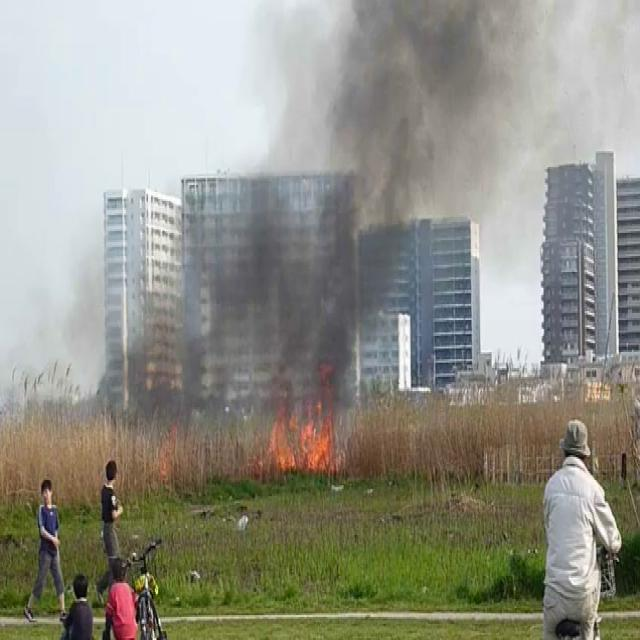Fire: (263, 387, 343, 481)
Smoke: (200, 1, 526, 437)
